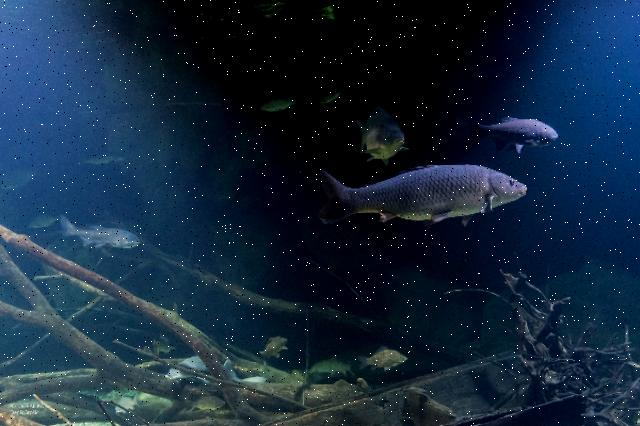Mulut: (391, 123, 414, 153)
Sirip Anal: (371, 201, 399, 229)
Sirip Dada: (468, 190, 500, 216)
Sirip Ekor: (297, 162, 353, 234), (444, 107, 486, 161)
Sirip Perut: (423, 205, 455, 239)
